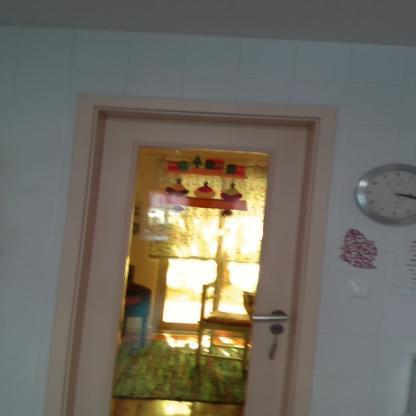door: (92, 108, 298, 416)
lever: (245, 312, 290, 324)
